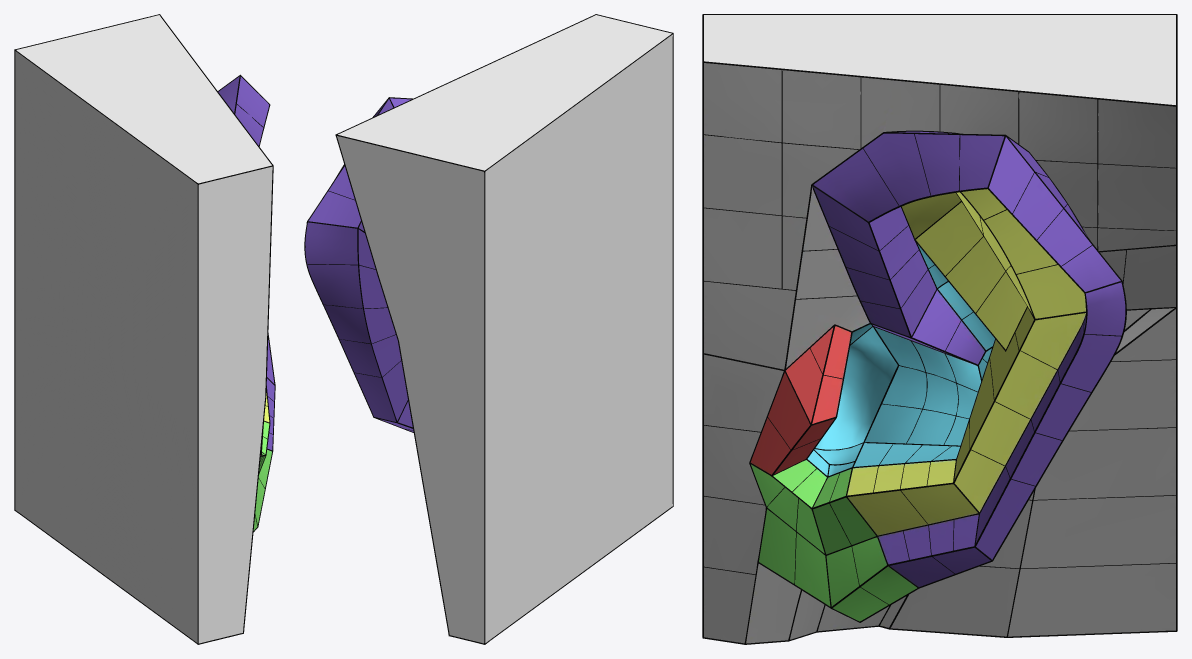
File: 五官_耳朵_20260324191138_opt.glb
3 renders of one model, left to right at view 1: azimuth 30°, elevation 25°; view 2: azimuth 150°, elevation 25°; view 3: azimuth 270°, elevation 25°, orthographic. The views are drawn at different scales.
Parts seen in each view (by area): view 1: Simple_auss_block01002, lines, Simple_auss_block01001; view 2: Simple_auss_block01002, Simple_auss_block01001, lines; view 3: Simple_auss_block01001, Simple_auss_block01002, lines.
Boxes of the visible parts, <box> form: Simple_auss_block01002: <box>15,15,272,643</box>; lines: <box>14,14,275,644</box>; Simple_auss_block01001: <box>218,76,274,530</box>; Simple_auss_block01002: <box>337,15,672,643</box>; Simple_auss_block01001: <box>305,98,413,431</box>; lines: <box>304,14,673,644</box>; Simple_auss_block01001: <box>704,63,1175,643</box>; Simple_auss_block01002: <box>704,15,1175,104</box>; lines: <box>702,14,1177,644</box>.
Bounding box in the file's own units: 0.1839 × 0.4 × 0.289.
Materials: 3 (1 with a texture image).
